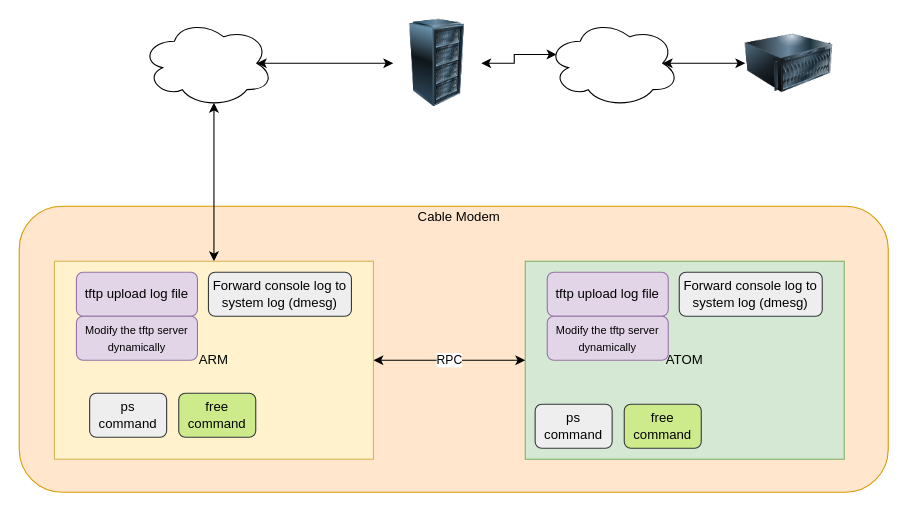
The diagram is 908 pixels wide and 512 high, and some of its shapes have lost their labels. The centre of each missing label's shape, as x and y in pixels:
"CMTS" belongs at point (437, 63).
"tftp server" belongs at point (789, 63).
